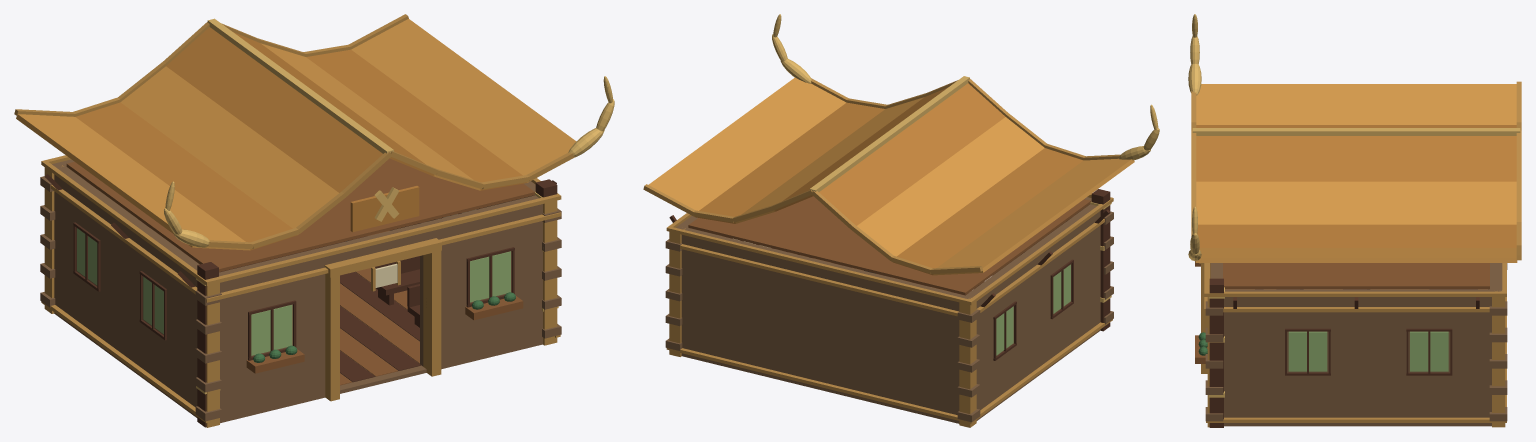
Rendered from QuestHall.glb.
The picture shows the model from 3 angles, left to right: view 1: azimuth 30°, elevation 25°; view 2: azimuth 150°, elevation 25°; view 3: azimuth 270°, elevation 25°; orthographic projection. The views are drawn at different scales.
Visible parts, largest first — view 1: QuestHall_002_Side, QuestHall_177_ProfileRoof, QuestHall_156_ProfileRoof, QuestHall_159_ProfileRoof, QuestHall_040_FrontWing, QuestHall_003_FrontWing, QuestHall_095_Ceiling, QuestHall_162_ProfileRoof, QuestHall_165_ProfileRoof, QuestHall_174_ProfileRoof, QuestHall_171_ProfileRoof, QuestHall_085_FrontCourse (+27 smaller); view 2: QuestHall_001_Rear, QuestHall_002_Side, QuestHall_177_ProfileRoof, QuestHall_156_ProfileRoof, QuestHall_095_Ceiling, QuestHall_159_ProfileRoof, QuestHall_162_ProfileRoof, QuestHall_165_ProfileRoof, QuestHall_174_ProfileRoof, QuestHall_171_ProfileRoof, QuestHall_086_RearCourse, QuestHall_078_RearCourse (+12 smaller); view 3: QuestHall_039_Side, QuestHall_168_ProfileRoof, QuestHall_171_ProfileRoof, QuestHall_165_ProfileRoof, QuestHall_174_ProfileRoof, QuestHall_095_Ceiling, QuestHall_177_ProfileRoof, QuestHall_180_Ridge, QuestHall_088_SideCourse, QuestHall_080_SideCourse, QuestHall_188_HearthTimber, QuestHall_084_SideCourse (+8 smaller).
Boxes of the visible parts, box(x1,y1,x2,y2) form: QuestHall_002_Side: box(53, 164, 199, 413); QuestHall_177_ProfileRoof: box(351, 18, 575, 182); QuestHall_156_ProfileRoof: box(166, 27, 382, 192); QuestHall_159_ProfileRoof: box(120, 66, 338, 233); QuestHall_040_FrontWing: box(420, 195, 541, 369); QuestHall_003_FrontWing: box(219, 246, 334, 421); QuestHall_095_Ceiling: box(66, 158, 534, 271); QuestHall_162_ProfileRoof: box(76, 102, 297, 250); QuestHall_165_ProfileRoof: box(16, 114, 250, 250); QuestHall_174_ProfileRoof: box(306, 49, 527, 190); QuestHall_171_ProfileRoof: box(261, 43, 480, 190); QuestHall_085_FrontCourse: box(204, 193, 561, 285); QuestHall_001_Rear: box(681, 228, 972, 423); QuestHall_002_Side: box(962, 204, 1100, 420); QuestHall_177_ProfileRoof: box(645, 77, 846, 216); QuestHall_156_ProfileRoof: box(819, 83, 1005, 225); QuestHall_095_Ceiling: box(688, 196, 1091, 295); QuestHall_159_ProfileRoof: box(857, 117, 1044, 262); QuestHall_162_ProfileRoof: box(893, 148, 1083, 275); QuestHall_165_ProfileRoof: box(933, 158, 1134, 275); QuestHall_174_ProfileRoof: box(695, 102, 884, 223); QuestHall_171_ProfileRoof: box(735, 97, 923, 223); QuestHall_086_RearCourse: box(666, 226, 973, 304); QuestHall_078_RearCourse: box(666, 348, 971, 423); QuestHall_039_Side: box(1224, 289, 1501, 426); QuestHall_168_ProfileRoof: box(1196, 136, 1516, 181); QuestHall_171_ProfileRoof: box(1196, 181, 1516, 224); QuestHall_165_ProfileRoof: box(1196, 84, 1516, 124); QuestHall_174_ProfileRoof: box(1197, 224, 1516, 247); QuestHall_095_Ceiling: box(1223, 263, 1489, 288); QuestHall_177_ProfileRoof: box(1195, 248, 1517, 262); QuestHall_180_Ridge: box(1192, 128, 1520, 135); QuestHall_088_SideCourse: box(1206, 291, 1506, 296); QuestHall_080_SideCourse: box(1206, 417, 1506, 422); QuestHall_188_HearthTimber: box(1209, 278, 1223, 427); QuestHall_084_SideCourse: box(1223, 307, 1489, 312).
Size of the model in its own units: 39.13 by 21.74 by 27.45.
